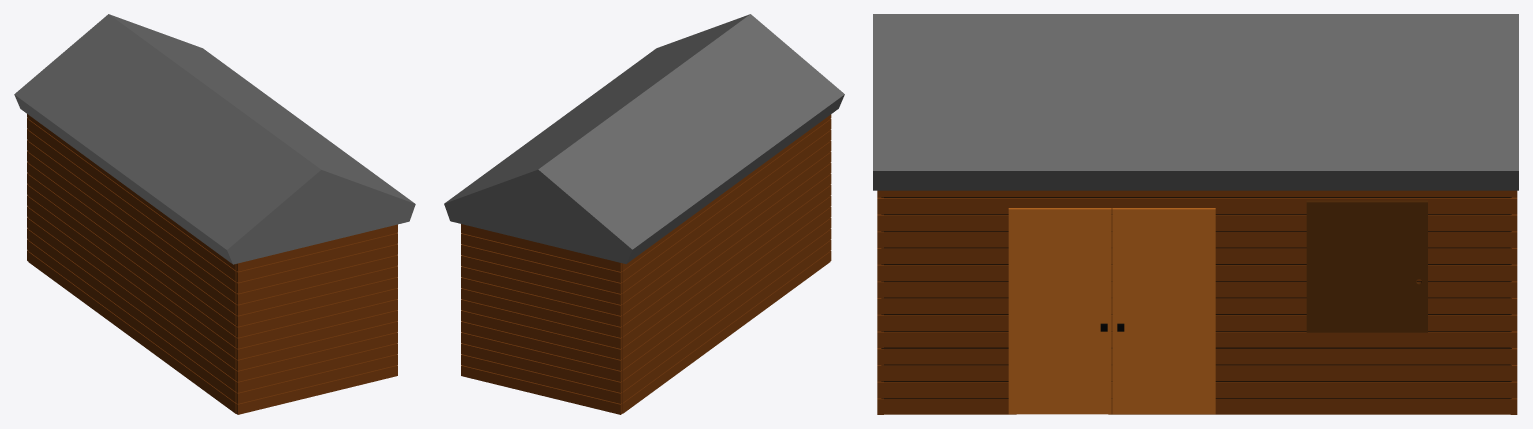
File: GranjaExterior2.fbx
3 renders of one model, left to right at view 1: azimuth 30°, elevation 25°; view 2: azimuth 150°, elevation 25°; view 3: azimuth 270°, elevation 25°, orthographic. The views are drawn at different scales.
Visible parts, largest first — view 1: Cylinder, Cube.005, Cube.007; view 2: Cylinder, Cube.005, Cube.008; view 3: Cylinder, Cube.006, Cube.018, Cube.017, Cube.019, Cube, Cube.008, Cube.007.
Boxes of the visible parts, box(x1,y1,x2,y2) form: Cylinder: box(14, 14, 415, 264); Cube.005: box(28, 115, 236, 413); Cube.007: box(236, 224, 397, 414); Cylinder: box(444, 14, 844, 263); Cube.005: box(622, 115, 830, 413); Cube.008: box(461, 224, 622, 414); Cylinder: box(873, 14, 1518, 190); Cube.006: box(882, 190, 1510, 414); Cube.018: box(1112, 208, 1215, 414); Cube.017: box(1008, 208, 1111, 414); Cube.019: box(1306, 200, 1427, 332); Cube: box(881, 197, 1511, 398); Cube.008: box(1510, 190, 1517, 414); Cube.007: box(877, 190, 883, 414).
Bounding box in the file's own units: 238 × 273 × 465.
